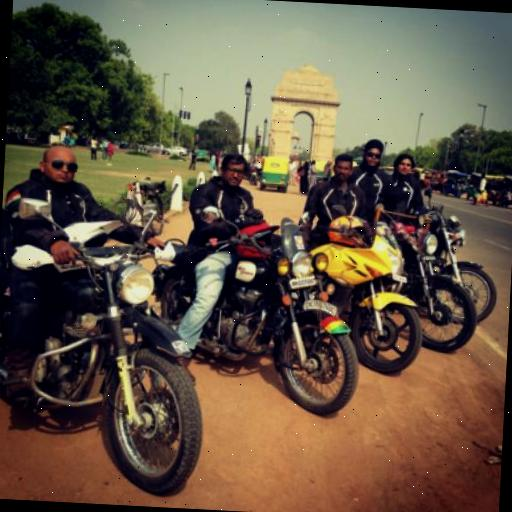no helmet: (0, 129, 186, 486), (178, 146, 326, 376), (291, 137, 444, 349)
